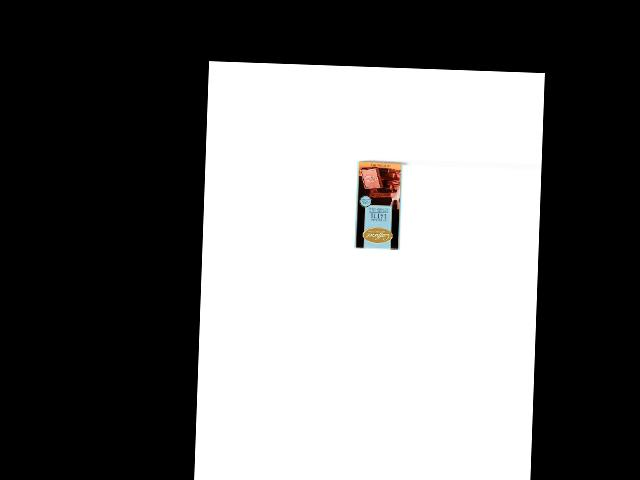chocolate: (353, 160, 404, 250)
